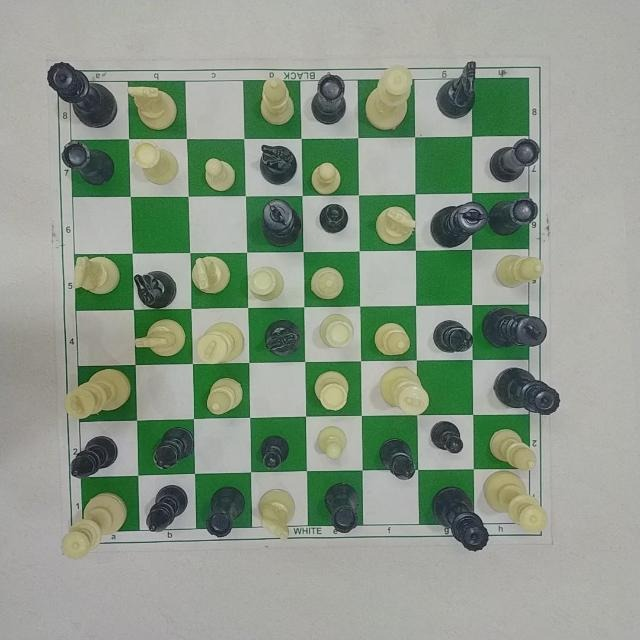black-bishop: (150, 422, 200, 471), (68, 433, 118, 481), (375, 434, 425, 482), (144, 483, 192, 533), (431, 313, 475, 358)
black-king: (480, 303, 551, 354), (427, 201, 491, 249), (261, 196, 304, 248)
black-knight: (435, 60, 481, 118), (254, 139, 300, 188), (129, 266, 180, 308), (262, 317, 305, 359)
black-pawn: (256, 432, 297, 472), (430, 417, 467, 457), (317, 202, 353, 234)
black-queen: (44, 61, 118, 128), (433, 481, 491, 556), (492, 364, 564, 418)
black-rook: (487, 132, 542, 186), (56, 139, 119, 184), (205, 483, 249, 541), (321, 478, 363, 535), (490, 194, 539, 238), (312, 73, 352, 123)
white-bishop: (487, 425, 541, 473), (258, 74, 298, 126), (494, 253, 546, 293), (203, 375, 249, 418), (373, 317, 413, 357), (307, 265, 346, 301)
white-king: (61, 365, 132, 420), (377, 364, 435, 420), (195, 320, 247, 365)
white-knight: (124, 80, 183, 131), (131, 315, 191, 363), (71, 252, 123, 297), (254, 487, 299, 539), (372, 199, 418, 246), (188, 253, 237, 297)
white-pawn: (201, 156, 237, 192), (310, 159, 344, 197), (314, 423, 350, 458)
white-queen: (57, 488, 131, 559), (482, 468, 556, 538), (362, 64, 417, 132)
white-rook: (130, 139, 182, 185), (309, 369, 355, 412), (315, 310, 358, 354), (246, 264, 288, 304)
